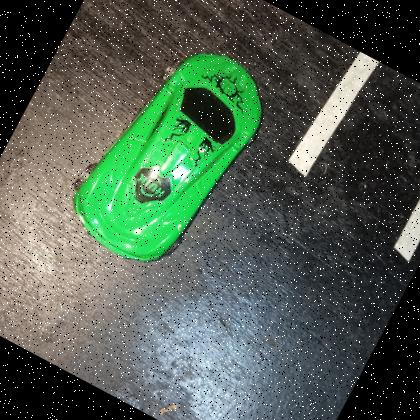Car: (52, 18, 284, 289)
